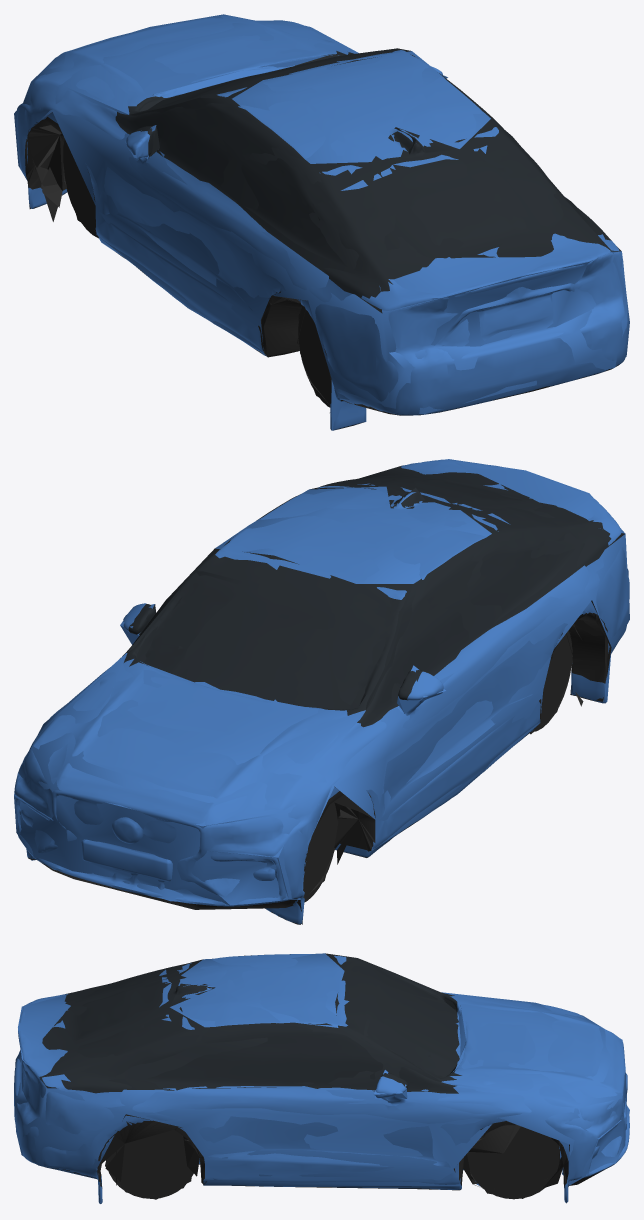
The model's file is volvo-s60.glb.
3 renders of one model, top to bottom at view 1: azimuth 30°, elevation 25°; view 2: azimuth 150°, elevation 25°; view 3: azimuth 270°, elevation 25°, orthographic. The views are drawn at different scales.
Parts seen in each view (by area): view 1: body, far; view 2: body, far; view 3: body, far.
Part boxes in pixels (x1,y1,x2,y2): body: [16, 15, 628, 430]; far: [14, 14, 629, 430]; body: [14, 459, 629, 924]; far: [14, 459, 629, 924]; body: [14, 954, 629, 1203]; far: [15, 953, 629, 1203].
Size of the model in its own units: 2.18 by 1.51 by 4.8.
